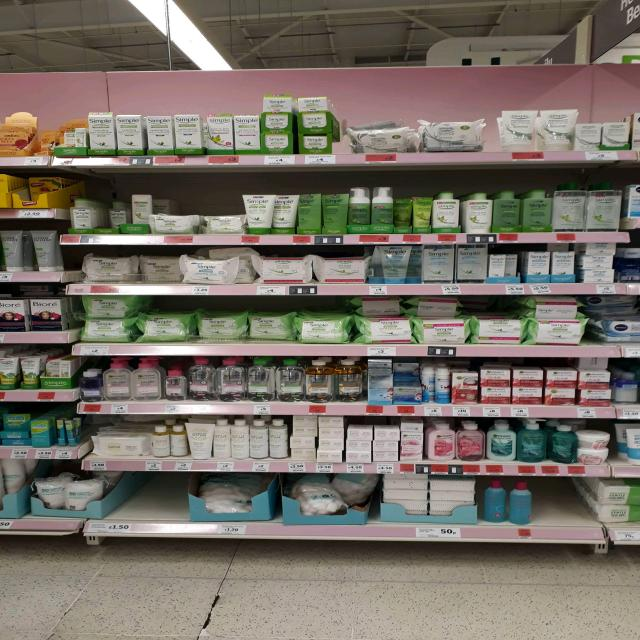empty_space: (121, 473, 175, 517), (541, 479, 589, 521)
